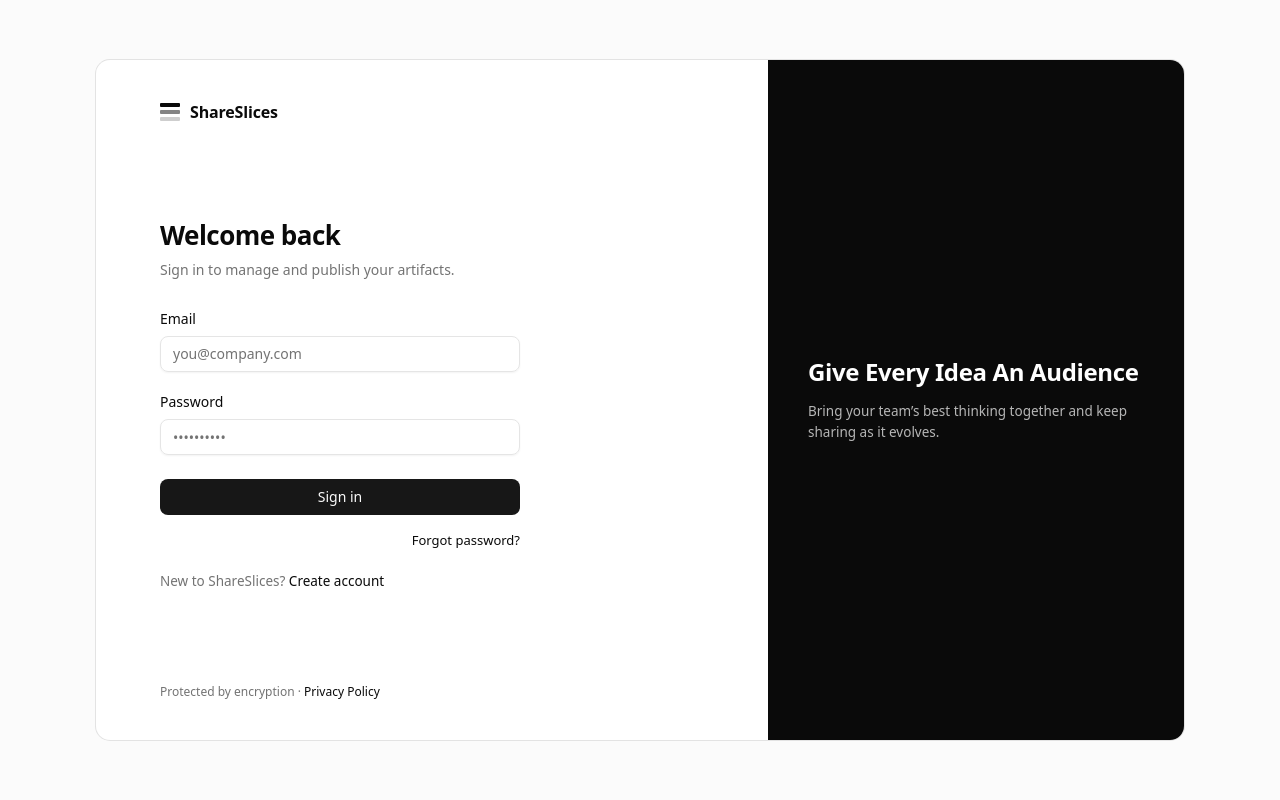
Test: account entry screens › shows neutral feedback for failed login
Check: the link "Forgot password?" is shown, box [412,531,520,549]
Check: the text "Bring your team’s best thinking together and keep sharing as it evolves." is shown, box [808,401,1144,443]
Type "unknown@example.com" into the field labelled "Email" at point(340, 354), box [160,336,520,372]
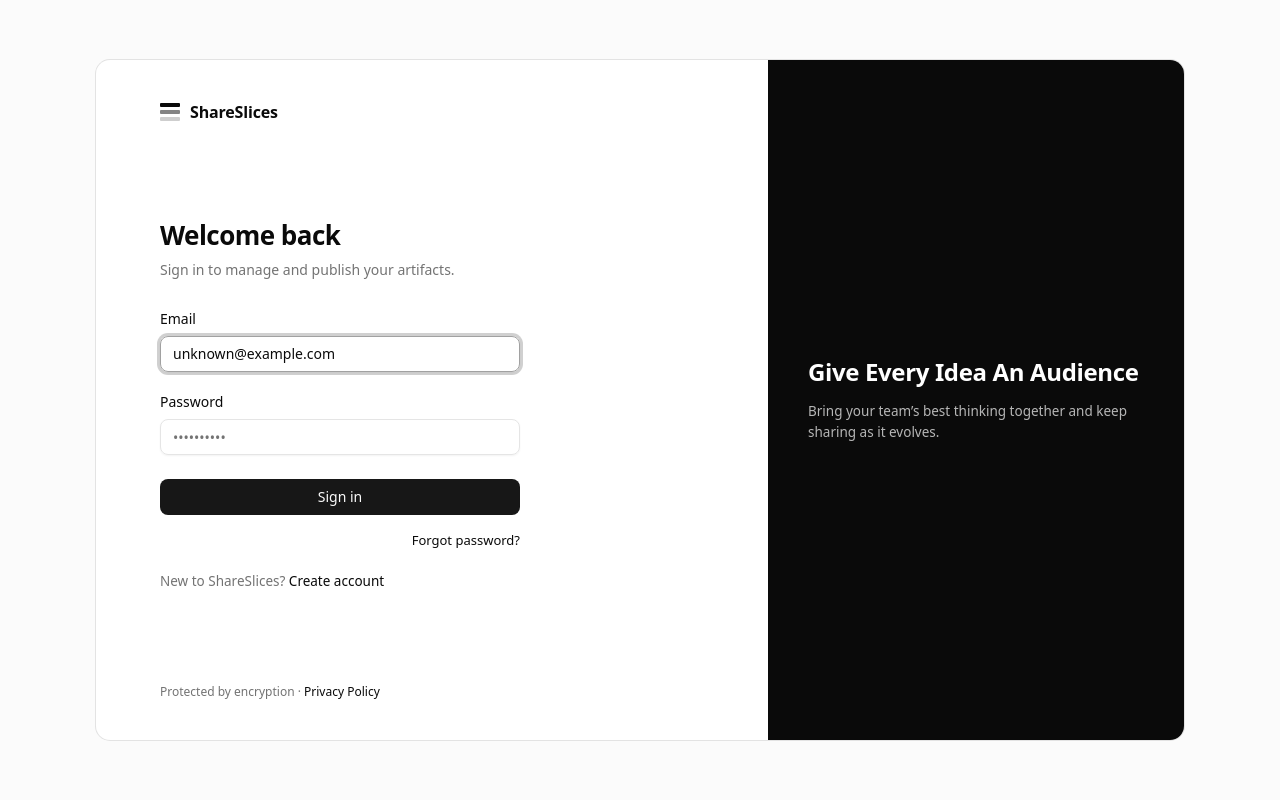
Type "wrong password" into the password field labelled "Password" at point(340, 437), box [160,419,520,455]
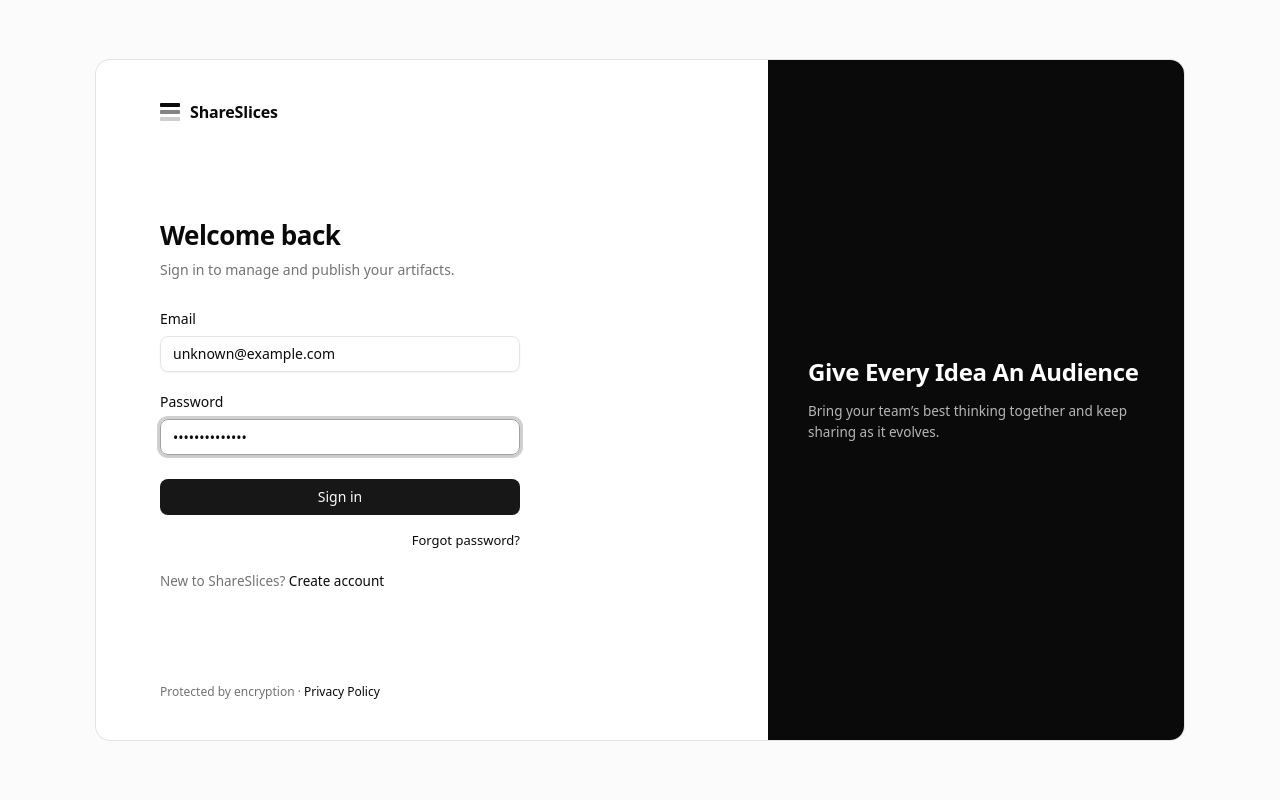
Click the button "Sign in" at point(340, 497), box [160,479,520,515]
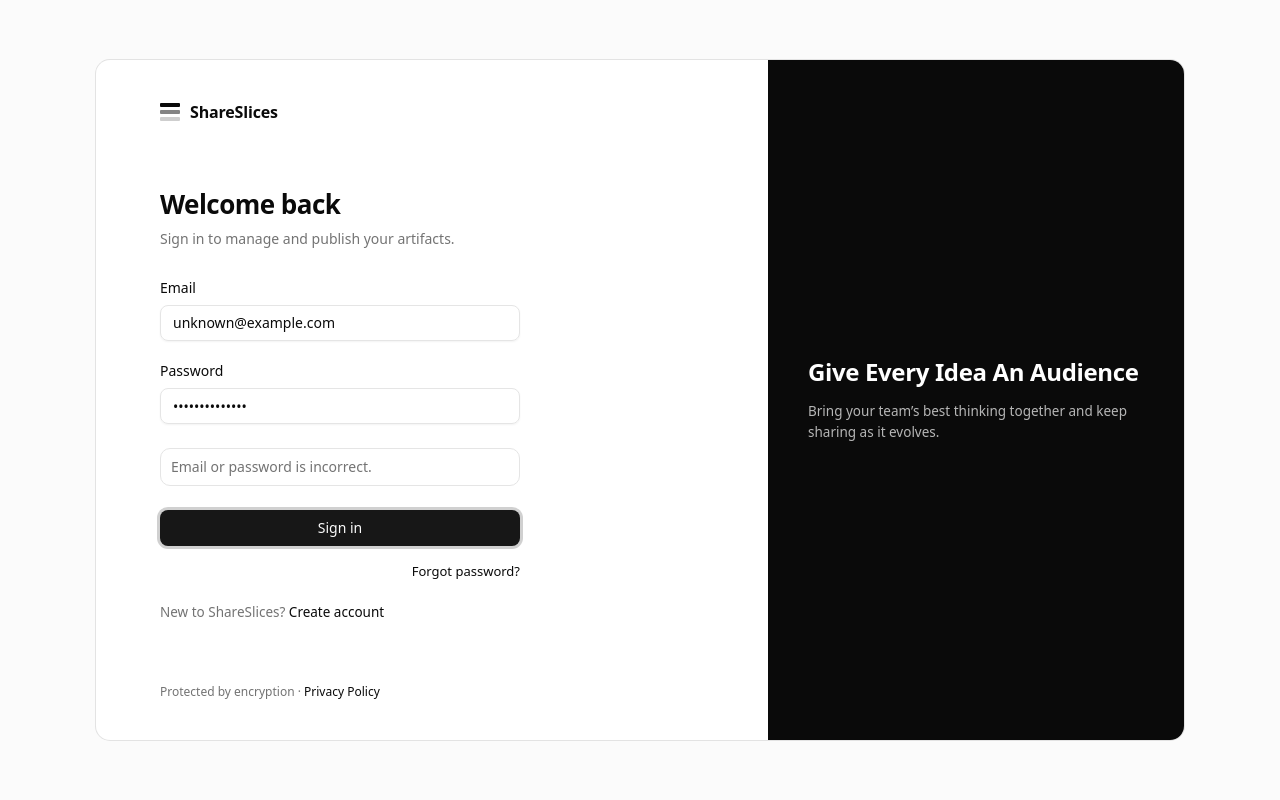
Check: the text "Email or password is incorrect." is shown, box [171,457,372,476]
